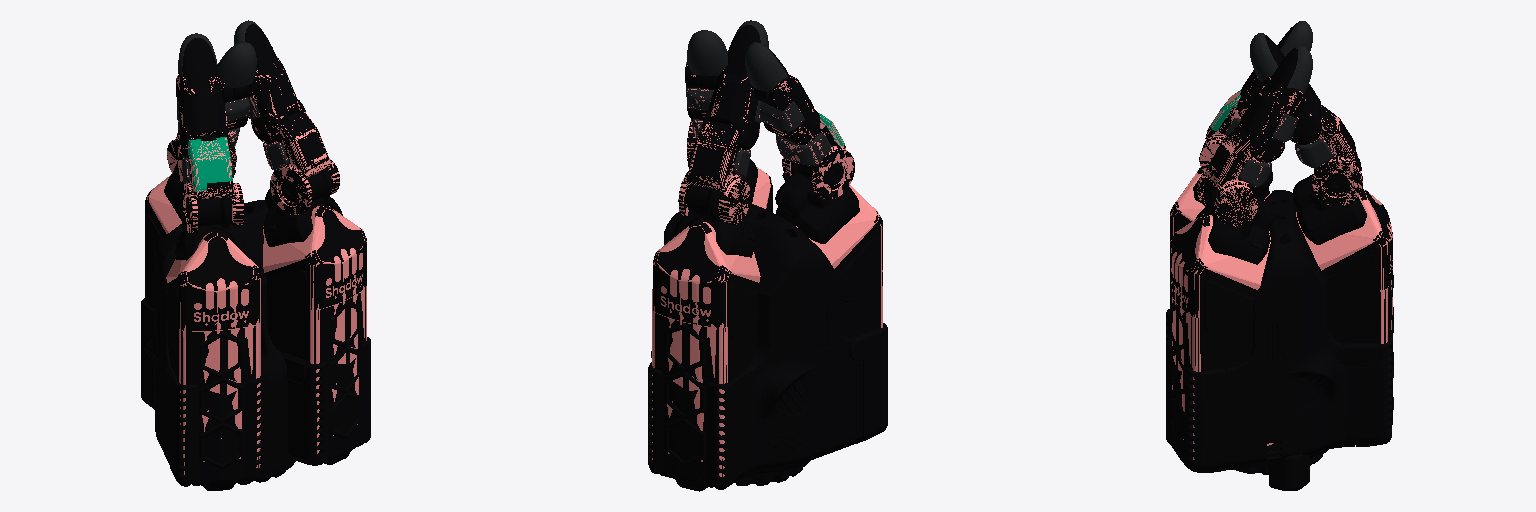
--- Render facts (derived) ---
The picture shows the robot from 3 angles, left to right: view 1: azimuth 30°, elevation 25°; view 2: azimuth 150°, elevation 25°; view 3: azimuth 270°, elevation 25°; orthographic projection.
Robot: converted_robot — 32 links, 31 joints (12 revolute, 19 fixed); root link world; default pose: all joints at 0.
Links seen in each view (by area): view 1: F2/finger_base, F1/finger_base, hand_base, F1/finger_proximal, F2/finger_proximal, F0/finger_base, F2/finger_middle, F1/finger_middle, F1/finger_knuckle, F2/finger_knuckle, F2/finger_distal, F0/finger_distal (+4 smaller); view 2: F0/finger_base, hand_base, F2/finger_base, F0/finger_proximal, F2/finger_knuckle, F2/finger_proximal, F0/finger_middle, F2/finger_middle, F0/finger_knuckle, F1/finger_distal, F2/finger_distal, F0/finger_distal (+2 smaller); view 3: hand_base, F1/finger_base, F0/finger_base, F1/finger_proximal, F0/finger_proximal, F1/finger_middle, F0/finger_knuckle, F1/finger_knuckle, F1/finger_distal, F2/finger_proximal, F2/finger_base, F0/finger_middle (+3 smaller).
Link boxes in pixels (<box>): F2/finger_base: <box>165,232,264,490</box>; F1/finger_base: <box>263,205,370,465</box>; hand_base: <box>144,200,295,484</box>; F1/finger_proximal: <box>263,112,339,214</box>; F2/finger_proximal: <box>182,135,243,233</box>; F0/finger_base: <box>141,175,181,409</box>; F2/finger_middle: <box>176,74,230,157</box>; F1/finger_middle: <box>248,56,305,143</box>; F1/finger_knuckle: <box>264,169,342,246</box>; F2/finger_knuckle: <box>174,197,246,260</box>; F2/finger_distal: <box>178,33,217,89</box>; F0/finger_distal: <box>217,42,256,101</box>; F0/finger_base: <box>648,222,760,491</box>; hand_base: <box>651,204,862,485</box>; F2/finger_base: <box>796,185,887,443</box>; F0/finger_proximal: <box>678,122,750,224</box>; F2/finger_knuckle: <box>775,161,859,243</box>; F2/finger_proximal: <box>772,113,854,199</box>; F0/finger_middle: <box>702,65,761,149</box>; F2/finger_middle: <box>752,75,820,144</box>; F0/finger_knuckle: <box>673,184,754,257</box>; F1/finger_distal: <box>687,30,727,89</box>; F2/finger_distal: <box>745,42,789,106</box>; F0/finger_distal: <box>726,20,768,76</box>; hand_base: <box>1223,190,1355,490</box>; F1/finger_base: <box>1166,214,1273,472</box>; F0/finger_base: <box>1296,189,1393,446</box>; F1/finger_proximal: <box>1197,126,1271,226</box>; F0/finger_proximal: <box>1295,105,1362,205</box>; F1/finger_middle: <box>1238,77,1305,162</box>; F0/finger_knuckle: <box>1293,155,1366,244</box>; F1/finger_knuckle: <box>1195,179,1273,264</box>; F1/finger_distal: <box>1266,45,1312,93</box>; F2/finger_proximal: <box>1199,89,1241,172</box>; F2/finger_base: <box>1166,167,1269,341</box>; F0/finger_middle: <box>1263,75,1321,144</box>.
Size in the robot's own frame: 0.1611 by 0.1656 by 0.3405 metres.
Meshes: 26 distinct files referenced, 70 mesh visuals loaded (26 OBJ).

The robot description file, URDF, robot "converted_robot":
<?xml version="1.0" ?>
<robot name="converted_robot">
   <!--generated with mjcf_urdf_simple_converter (https://github.com/Yasu31/mjcf_urdf_simple_converter)-->
   <material name="white_aluminium">
      <color rgba="0.6313 0.6313 0.62745 1"/>
   </material>
   <material name="graphite_black">
      <color rgba="0.1529 0.16078 0.16862 1"/>
   </material>
   <material name="jet_black">
      <color rgba="0.0549 0.0549 0.06274 1"/>
   </material>
   <material name="collision">
      <color rgba="1 0.6 0.6 1"/>
   </material>
   <link name="world">
      <inertial>
         <origin xyz="0.0 0.0 0.0" rpy="0.0 0.0 0.0"/>
         <mass value="0.0"/>
         <inertia ixx="0.0" iyy="0.0" izz="0.0" ixy="0" ixz="0" iyz="0"/>
      </inertial>
   </link>
   <link name="hand_base">
      <inertial>
         <origin xyz="0.0012012408425374063 0.006729996281792371 0.08401692122042397" rpy="-0.05683497076935362 0.06733359392505678 1.5758357357552364"/>
         <mass value="0.51"/>
         <inertia ixx="0.0017857945287114141" iyy="0.0014331679068060614" izz="0.0008006585504913038" ixy="0" ixz="0" iyz="0"/>
      </inertial>
      <visual name="r3_config1_base">
         <origin xyz="0.0012012408425374063 0.006729996281792371 0.08401692122042397" rpy="-0.05683497076935362 0.06733359392505656 1.5758357357552366"/>
         <geometry>
            <mesh filename="meshes/converted_r3_config1_base_808080ff.obj"/>
         </geometry>
         <material name="jet_black">
            <color rgba="0.0549 0.0549 0.06274 1"/>
         </material>
      </visual>
      <visual name="r3_config1_base_col">
         <origin xyz="0.0012012408425374063 0.006729996281792371 0.08401692122042397" rpy="-0.05683497076935362 0.06733359392505656 1.5758357357552366"/>
         <geometry>
            <mesh filename="meshes/converted_r3_config1_base_col_ff9999ff.obj"/>
         </geometry>
         <material name="collision">
            <color rgba="1 0.6 0.6 1"/>
         </material>
      </visual>
      <visual name="r3_config1_base_puck">
         <origin xyz="2.1132538598212176e-05 -1.5607816862469347e-05 0.005612088342766364" rpy="3.107884950007894 -1.5686393870957103 -0.5884114118014745"/>
         <geometry>
            <mesh filename="meshes/converted_r3_config1_base_puck_808080ff.obj"/>
         </geometry>
         <material name="jet_black">
            <color rgba="0.0549 0.0549 0.06274 1"/>
         </material>
      </visual>
      <visual name="r3_config1_base_puck_col">
         <origin xyz="2.1132538598212176e-05 -1.5607816862469347e-05 0.005612088342766364" rpy="3.107884950007894 -1.5686393870957103 -0.5884114118014745"/>
         <geometry>
            <mesh filename="meshes/converted_r3_config1_base_puck_col_ff9999ff.obj"/>
         </geometry>
         <material name="collision">
            <color rgba="1 0.6 0.6 1"/>
         </material>
      </visual>
   </link>
   <joint type="fixed" name="world2hand_base_fixed">
      <parent link="world"/>
      <child link="hand_base"/>
      <origin xyz="0.0 0.0 0.0" rpy="0.0 0.0 0.0"/>
   </joint>
   <link name="F0/">
      <inertial>
         <origin xyz="0.0 0.05 0.017" rpy="0.0 0.0 0.0"/>
         <mass value="0.0"/>
         <inertia ixx="0.0" iyy="0.0" izz="0.0" ixy="0" ixz="0" iyz="0"/>
      </inertial>
   </link>
   <joint type="fixed" name="world2F0/_fixed">
      <parent link="world"/>
      <child link="F0/"/>
      <origin xyz="0.0 0.05 0.017" rpy="0.0 0.0 0.0"/>
   </joint>
   <link name="F0/finger_base">
      <inertial>
         <origin xyz="8.327226545399306e-12 0.01054598288936383 0.07048018107010738" rpy="0.0 -0.10711439124122646 1.5707963267948968"/>
         <mass value="0.89937782"/>
         <inertia ixx="0.0015673892706571104" iyy="0.0014910361893646423" izz="0.00043993605940265574" ixy="0" ixz="0" iyz="0"/>
      </inertial>
      <visual name="r3_finger_base">
         <origin xyz="8.327226545399306e-12 0.01054598288936383 0.07048018107010738" rpy="0.0 -0.10711439124122646 1.5707963267948966"/>
         <geometry>
            <mesh filename="meshes/converted_r3_finger_base_808080ff.obj"/>
         </geometry>
         <material name="jet_black">
            <color rgba="0.0549 0.0549 0.06274 1"/>
         </material>
      </visual>
      <visual name="r3_finger_base_tb">
         <origin xyz="-0.00025000517546225093 0.029824496031573167 0.15326050625056" rpy="-0.11303539257440243 -0.21914547257460848 1.5720384557586078"/>
         <geometry>
            <mesh filename="meshes/converted_r3_finger_base_tb_808080ff.obj"/>
         </geometry>
         <material name="jet_black">
            <color rgba="0.0549 0.0549 0.06274 1"/>
         </material>
      </visual>
      <visual name="r3_finger_cover">
         <origin xyz="0.0007136569957928827 0.028223592638347953 0.04220325608402197" rpy="0.03536068327352959 0.08870175476163311 1.5218955282386957"/>
         <geometry>
            <mesh filename="meshes/converted_r3_finger_cover_808080ff.obj"/>
         </geometry>
         <material name="jet_black">
            <color rgba="0.0549 0.0549 0.06274 1"/>
         </material>
      </visual>
      <visual name="r3_finger_pulley_block">
         <origin xyz="-0.0009622186268961596 0.006361143943189516 0.1466967096132776" rpy="-1.5687868138431136 -1.1022271132639765 -1.576208495621712"/>
         <geometry>
            <mesh filename="meshes/converted_r3_finger_pulley_block_808080ff.obj"/>
         </geometry>
         <material name="jet_black">
            <color rgba="0.0549 0.0549 0.06274 1"/>
         </material>
      </visual>
      <visual name="r3_finger_lid_white">
         <origin xyz="-3.706867975964192e-06 0.03646801477221525 0.1465908800087447" rpy="1.5707963267948966 -0.02201707176498169 1.5707963267948966"/>
         <geometry>
            <mesh filename="meshes/converted_r3_finger_lid_white_808080ff.obj"/>
         </geometry>
         <material name="white_aluminium">
            <color rgba="0.6313 0.6313 0.62745 1"/>
         </material>
      </visual>
      <visual name="r3_finger_lid_logo">
         <origin xyz="-1.4756088946121951e-05 0.03486981911536337 0.1484948163600187" rpy="1.5793979239547067 -0.07957178813569987 1.5707963267948966"/>
         <geometry>
            <mesh filename="meshes/converted_r3_finger_lid_logo_808080ff.obj"/>
         </geometry>
         <material name="jet_black">
            <color rgba="0.0549 0.0549 0.06274 1"/>
         </material>
      </visual>
      <visual name="r3_finger_cover_small_left">
         <origin xyz="0.029562986508563247 0.011445826228016404 0.12950803634669852" rpy="2.195541630562622 0.0 0.0"/>
         <geometry>
            <mesh filename="meshes/converted_r3_finger_cover_small_left_808080ff.obj"/>
         </geometry>
         <material name="jet_black">
            <color rgba="0.0549 0.0549 0.06274 1"/>
         </material>
      </visual>
      <visual name="r3_finger_cover_small_right">
         <origin xyz="-0.029562986509708983 0.01144582621534511 0.12950803634822772" rpy="2.1955416305372593 0.0 0.0"/>
         <geometry>
            <mesh filename="meshes/converted_r3_finger_cover_small_right_808080ff.obj"/>
         </geometry>
         <material name="jet_black">
            <color rgba="0.0549 0.0549 0.06274 1"/>
         </material>
      </visual>
      <visual name="r3_finger_base_col">
         <origin xyz="-1.3046223241388559e-05 0.0004585780015310033 0.08905454252468384" rpy="0.001172742393657572 0.00012091916462431129 -0.0005129728017108533"/>
         <geometry>
            <mesh filename="meshes/converted_r3_finger_base_col_808080ff.obj"/>
         </geometry>
         <material name="collision">
            <color rgba="1 0.6 0.6 1"/>
         </material>
      </visual>
   </link>
   <joint type="fixed" name="F0/2F0/finger_base_fixed">
      <parent link="F0/"/>
      <child link="F0/finger_base"/>
      <origin xyz="0.0 0.0 0.0" rpy="0.0 0.0 0.0"/>
   </joint>
   <link name="F0/finger_knuckle">
      <inertial>
         <origin xyz="-0.00023377087580675408 -0.007837674710718483 -0.015295115474376404" rpy="1.0322489600345182 0.015439441878945415 -0.030933412173580144"/>
         <mass value="0.13077995"/>
         <inertia ixx="6.233881188373811e-05" iyy="5.631648265865956e-05" izz="3.5160911517250855e-05" ixy="0" ixz="0" iyz="0"/>
      </inertial>
      <visual name="r3_finger_knuckle">
         <origin xyz="-0.00023377087580675408 -0.007837674710718483 -0.015295115474376404" rpy="1.0322489600345182 0.015439441878945637 -0.030933412173580144"/>
         <geometry>
            <mesh filename="meshes/converted_r3_finger_knuckle_808080ff.obj"/>
         </geometry>
         <material name="jet_black">
            <color rgba="0.0549 0.0549 0.06274 1"/>
         </material>
      </visual>
      <visual name="r3_finger_knuckle_col">
         <origin xyz="-0.00023377087580675408 -0.007837674710718483 -0.015295115474376404" rpy="1.0322489600345182 0.015439441878945637 -0.030933412173580144"/>
         <geometry>
            <mesh filename="meshes/converted_r3_finger_knuckle_col_808080ff.obj"/>
         </geometry>
         <material name="collision">
            <color rgba="1 0.6 0.6 1"/>
         </material>
      </visual>
   </link>
   <link name="F0/J0_jointbody">
      <inertial>
         <origin xyz="0.0 0.0 0.0" rpy="0.0 0.0 0.0"/>
         <mass value="0.001"/>
         <inertia ixx="1e-09" iyy="1e-09" izz="1e-09" ixy="0" ixz="0" iyz="0"/>
      </inertial>
   </link>
   <joint type="revolute" name="F0/J0">
      <parent link="F0/finger_base"/>
      <child link="F0/J0_jointbody"/>
      <origin xyz="0.0 0.015 0.17902" rpy="-1.0472000000000001 0.0 0.0"/>
      <axis xyz="0.0 0.0 -1.0"/>
      <limit lower="-0.8727" upper="0.8727" effort="100" velocity="100"/>
   </joint>
   <joint type="fixed" name="F0/J0_offset">
      <parent link="F0/J0_jointbody"/>
      <child link="F0/finger_knuckle"/>
      <origin xyz="-0.0 -0.0 -0.0" rpy="0.0 0.0 0.0"/>
   </joint>
   <link name="F0/finger_proximal">
      <inertial>
         <origin xyz="-0.0009644587620116158 -0.016217657025227983 0.0026224635162594807" rpy="0.42741351885532486 -1.5281955927617377 1.1674598495934774"/>
         <mass value="0.09614332"/>
         <inertia ixx="4.4348780185862844e-05" iyy="3.9493152754213314e-05" izz="1.6583256458014625e-05" ixy="0" ixz="0" iyz="0"/>
      </inertial>
      <visual name="r3_finger_proximal">
         <origin xyz="-0.0009644587620116158 -0.016217657025227983 0.0026224635162594807" rpy="0.4274135188553242 -1.5281955927617377 1.1674598495934778"/>
         <geometry>
            <mesh filename="meshes/converted_r3_finger_proximal_808080ff.obj"/>
         </geometry>
         <material name="jet_black">
            <color rgba="0.0549 0.0549 0.06274 1"/>
         </material>
      </visual>
      <visual name="r3_finger_proximal_lid">
         <origin xyz="0.0009964758204556124 -0.029411778713204648 0.016797547976464114" rpy="2.497510926265769 -1.4287487346267171 -1.3575196482734142"/>
         <geometry>
            <mesh filename="meshes/converted_r3_finger_proximal_lid_808080ff.obj"/>
         </geometry>
         <material name="jet_black">
            <color rgba="0.0549 0.0549 0.06274 1"/>
         </material>
      </visual>
      <visual name="r3_finger_proximal_magtac">
         <origin xyz="-1.3808692983045182e-07 -0.02758220823071568 -0.002932796361921121" rpy="1.5707963267948966 0.1889942027358682 1.5707963267948966"/>
         <geometry>
            <mesh filename="meshes/converted_r3_finger_proximal_magtac_808080ff.obj"/>
         </geometry>
         <material name="graphite_black">
            <color rgba="0.1529 0.16078 0.16862 1"/>
         </material>
      </visual>
      <visual name="r3_finger_proximal_col">
         <origin xyz="-0.0005162379564240678 -0.020597143663197596 0.003623588669234484" rpy="-0.49111008932510347 -1.4921888527050045 2.10201627227121"/>
         <geometry>
            <mesh filename="meshes/converted_r3_finger_proximal_col_808080ff.obj"/>
         </geometry>
         <material name="collision">
            <color rgba="1 0.6 0.6 1"/>
         </material>
      </visual>
   </link>
   <link name="F0/J1_jointbody">
      <inertial>
         <origin xyz="0.0 0.0 0.0" rpy="0.0 0.0 0.0"/>
         <mass value="0.001"/>
         <inertia ixx="1e-09" iyy="1e-09" izz="1e-09" ixy="0" ixz="0" iyz="0"/>
      </inertial>
   </link>
   <joint type="revolute" name="F0/J1">
      <parent link="F0/finger_knuckle"/>
      <child link="F0/J1_jointbody"/>
      <origin xyz="0.0 -0.03 0.0" rpy="0.0 0.0 0.0"/>
      <axis xyz="1.0 0.0 0.0"/>
      <limit lower="-1.3963" upper="0.7854" effort="100" velocity="100"/>
   </joint>
   <joint type="fixed" name="F0/J1_offset">
      <parent link="F0/J1_jointbody"/>
      <child link="F0/finger_proximal"/>
      <origin xyz="-0.0 -0.0 -0.0" rpy="0.0 0.0 0.0"/>
   </joint>
   <link name="F0/finger_middle">
      <inertial>
         <origin xyz="-5.312439490077452e-05 -0.014887540831131058 0.0024159721835044926" rpy="-0.3106861008821471 -1.542885454696393 1.865330518167668"/>
         <mass value="0.05585897"/>
         <inertia ixx="1.8411470670307498e-05" iyy="1.586370741286415e-05" izz="7.914944890151545e-06" ixy="0" ixz="0" iyz="0"/>
      </inertial>
      <visual name="r3_finger_middle">
         <origin xyz="-5.312439490077452e-05 -0.014887540831131058 0.0024159721835044926" rpy="-0.31068610088214343 -1.542885454696393 1.865330518167664"/>
         <geometry>
            <mesh filename="meshes/converted_r3_finger_middle_808080ff.obj"/>
         </geometry>
         <material name="jet_black">
            <color rgba="0.0549 0.0549 0.06274 1"/>
         </material>
      </visual>
      <visual name="r3_finger_middle_magtac">
         <origin xyz="-8.268536875349562e-07 -0.017052828022417015 -0.006302157933194955" rpy="1.5744146047816145 -1.2499101541936672 1.5707963267948966"/>
         <geometry>
            <mesh filename="meshes/converted_r3_finger_middle_magtac_808080ff.obj"/>
         </geometry>
         <material name="graphite_black">
            <color rgba="0.1529 0.16078 0.16862 1"/>
         </material>
      </visual>
      <visual name="r3_finger_middle_col">
         <origin xyz="-3.869287817870368e-05 -0.015361278622972645 0.0005163638117973057" rpy="-0.40438613574675164 -1.560003033264187 1.9569843491253969"/>
         <geometry>
            <mesh filename="meshes/converted_r3_finger_middle_col_808080ff.obj"/>
         </geometry>
         <material name="collision">
            <color rgba="1 0.6 0.6 1"/>
         </material>
      </visual>
   </link>
   <link name="F0/J2_jointbody">
      <inertial>
         <origin xyz="0.0 0.0 0.0" rpy="0.0 0.0 0.0"/>
         <mass value="0.001"/>
         <inertia ixx="1e-09" iyy="1e-09" izz="1e-09" ixy="0" ixz="0" iyz="0"/>
      </inertial>
   </link>
   <joint type="revolute" name="F0/J2">
      <parent link="F0/finger_proximal"/>
      <child link="F0/J2_jointbody"/>
      <origin xyz="0.0 -0.05 0.0" rpy="0.0 0.0 0.0"/>
      <axis xyz="1.0 0.0 0.0"/>
      <limit lower="0.0" upper="1.3963" effort="100" velocity="100"/>
   </joint>
   <joint type="fixed" name="F0/J2_offset">
      <parent link="F0/J2_jointbody"/>
      <child link="F0/finger_middle"/>
      <origin xyz="-0.0 -0.0 -0.0" rpy="0.0 0.0 0.0"/>
   </joint>
   <link name="F0/finger_distal">
      <inertial>
         <origin xyz="-0.0012210484748830597 -0.003505067494228547 0.007269018357083593" rpy="0.39882863373999167 0.031957197161715634 0.13057366506604948"/>
         <mass value="0.02766365"/>
         <inertia ixx="4.205112783682214e-06" iyy="4.075291346818556e-06" izz="1.2620029574927629e-06" ixy="0" ixz="0" iyz="0"/>
      </inertial>
      <visual name="r3_finger_distal">
         <origin xyz="-0.0012210484748830597 -0.003505067494228547 0.007269018357083593" rpy="0.39882863373999167 0.031957197161715634 0.13057366506604948"/>
         <geometry>
            <mesh filename="meshes/converted_r3_finger_distal_808080ff.obj"/>
         </geometry>
         <material name="jet_black">
            <color rgba="0.0549 0.0549 0.06274 1"/>
         </material>
      </visual>
      <visual name="r3_finger_distal_sensor">
         <origin xyz="4.159368535496256e-07 -0.0006412162305678167 0.02304441091689664" rpy="0.0 -0.3214055919794552 1.5707963267948966"/>
         <geometry>
            <mesh filename="meshes/converted_r3_finger_distal_sensor_808080ff.obj"/>
         </geometry>
         <material name="graphite_black">
            <color rgba="0.1529 0.16078 0.16862 1"/>
         </material>
      </visual>
      <visual name="r3_finger_distal_col">
         <origin xyz="-0.0012210484748830597 -0.003505067494228547 0.007269018357083593" rpy="0.39882863373999167 0.031957197161715634 0.13057366506604948"/>
         <geometry>
            <mesh filename="meshes/converted_r3_finger_distal_col_808080ff.obj"/>
         </geometry>
         <material name="collision">
            <color rgba="1 0.6 0.6 1"/>
         </material>
      </visual>
      <visual name="r3_finger_distal_tip_col">
         <origin xyz="4.159368535496256e-07 -0.0006412162305678167 0.02304441091689664" rpy="0.0 -0.3214055919794552 1.5707963267948966"/>
         <geometry>
            <mesh filename="meshes/converted_r3_finger_distal_tip_col_808080ff.obj"/>
         </geometry>
         <material name="collision">
            <color rgba="1 0.6 0.6 1"/>
         </material>
      </visual>
   </link>
   <link name="F0/J3_jointbody">
      <inertial>
         <origin xyz="0.0 0.0 0.0" rpy="0.0 0.0 0.0"/>
         <mass value="0.001"/>
         <inertia ixx="1e-09" iyy="1e-09" izz="1e-09" ixy="0" ixz="0" iyz="0"/>
      </inertial>
   </link>
   <joint type="revolute" name="F0/J3">
      <parent link="F0/finger_middle"/>
      <child link="F0/J3_jointbody"/>
      <origin xyz="0.0 -0.035 0.0" rpy="-1.5707963267948963 0.0 -3.141592653589793"/>
      <axis xyz="-1.0 0.0 0.0"/>
      <limit lower="-0.5236" upper="1.4835" effort="100" velocity="100"/>
   </joint>
   <joint type="fixed" name="F0/J3_offset">
      <parent link="F0/J3_jointbody"/>
      <child link="F0/finger_distal"/>
      <origin xyz="-0.0 -0.0 -0.0" rpy="0.0 0.0 0.0"/>
   </joint>
   <link name="F1/">
      <inertial>
         <origin xyz="0.039 -0.029 0.017" rpy="0.0 0.0 -2.8159"/>
         <mass value="0.0"/>
         <inertia ixx="0.0" iyy="0.0" izz="0.0" ixy="0" ixz="0" iyz="0"/>
      </inertial>
   </link>
   <joint type="fixed" name="world2F1/_fixed">
      <parent link="world"/>
      <child link="F1/"/>
      <origin xyz="0.039 -0.029 0.017" rpy="0.0 0.0 -2.8159"/>
   </joint>
   <link name="F1/finger_base">
      <inertial>
         <origin xyz="8.327226545399306e-12 0.01054598288936383 0.07048018107010738" rpy="0.0 -0.10711439124122646 1.5707963267948968"/>
         <mass value="0.89937782"/>
         <inertia ixx="0.0015673892706571104" iyy="0.0014910361893646423" izz="0.00043993605940265574" ixy="0" ixz="0" iyz="0"/>
      </inertial>
      <visual name="r3_finger_base">
         <origin xyz="8.327226545399306e-12 0.01054598288936383 0.07048018107010738" rpy="0.0 -0.10711439124122646 1.5707963267948966"/>
         <geometry>
            <mesh filename="meshes/converted_r3_finger_base_808080ff.obj"/>
         </geometry>
         <material name="jet_black">
            <color rgba="0.0549 0.0549 0.06274 1"/>
         </material>
      </visual>
      <visual name="r3_finger_base_tb">
         <origin xyz="-0.00025000517546225093 0.029824496031573167 0.15326050625056" rpy="-0.11303539257440243 -0.21914547257460848 1.5720384557586078"/>
         <geometry>
            <mesh filename="meshes/converted_r3_finger_base_tb_808080ff.obj"/>
         </geometry>
         <material name="jet_black">
            <color rgba="0.0549 0.0549 0.06274 1"/>
         </material>
      </visual>
      <visual name="r3_finger_cover">
         <origin xyz="0.0007136569957928827 0.028223592638347953 0.04220325608402197" rpy="0.03536068327352959 0.08870175476163311 1.5218955282386957"/>
         <geometry>
            <mesh filename="meshes/converted_r3_finger_cover_808080ff.obj"/>
         </geometry>
         <material name="jet_black">
            <color rgba="0.0549 0.0549 0.06274 1"/>
         </material>
      </visual>
      <visual name="r3_finger_pulley_block">
         <origin xyz="-0.0009622186268961596 0.006361143943189516 0.1466967096132776" rpy="-1.5687868138431136 -1.1022271132639765 -1.576208495621712"/>
         <geometry>
            <mesh filename="meshes/converted_r3_finger_pulley_block_808080ff.obj"/>
         </geometry>
         <material name="jet_black">
            <color rgba="0.0549 0.0549 0.06274 1"/>
         </material>
      </visual>
      <visual name="r3_finger_lid_white">
         <origin xyz="-3.706867975964192e-06 0.03646801477221525 0.1465908800087447" rpy="1.5707963267948966 -0.02201707176498169 1.5707963267948966"/>
         <geometry>
            <mesh filename="meshes/converted_r3_finger_lid_white_808080ff.obj"/>
         </geometry>
         <material name="white_aluminium">
            <color rgba="0.6313 0.6313 0.62745 1"/>
         </material>
      </visual>
      <visual name="r3_finger_lid_logo">
         <origin xyz="-1.4756088946121951e-05 0.03486981911536337 0.1484948163600187" rpy="1.5793979239547067 -0.07957178813569987 1.5707963267948966"/>
         <geometry>
            <mesh filename="meshes/converted_r3_finger_lid_logo_808080ff.obj"/>
         </geometry>
         <material name="jet_black">
            <color rgba="0.0549 0.0549 0.06274 1"/>
         </material>
      </visual>
      <visual name="r3_finger_cover_small_left">
         <origin xyz="0.029562986508563247 0.011445826228016404 0.12950803634669852" rpy="2.195541630562622 0.0 0.0"/>
         <geometry>
            <mesh filename="meshes/converted_r3_finger_cover_small_left_808080ff.obj"/>
         </geometry>
         <material name="jet_black">
            <color rgba="0.0549 0.0549 0.06274 1"/>
         </material>
      </visual>
      <visual name="r3_finger_cover_small_right">
         <origin xyz="-0.029562986509708983 0.01144582621534511 0.12950803634822772" rpy="2.1955416305372593 0.0 0.0"/>
         <geometry>
            <mesh filename="meshes/converted_r3_finger_cover_small_right_808080ff.obj"/>
         </geometry>
         <material name="jet_black">
            <color rgba="0.0549 0.0549 0.06274 1"/>
         </material>
      </visual>
      <visual name="r3_finger_base_col">
         <origin xyz="-1.3046223241388559e-05 0.0004585780015310033 0.08905454252468384" rpy="0.001172742393657572 0.00012091916462431129 -0.0005129728017108533"/>
         <geometry>
            <mesh filename="meshes/converted_r3_finger_base_col_808080ff.obj"/>
         </geometry>
         <material name="collision">
            <color rgba="1 0.6 0.6 1"/>
         </material>
      </visual>
   </link>
   <joint type="fixed" name="F1/2F1/finger_base_fixed">
      <parent link="F1/"/>
      <child link="F1/finger_base"/>
      <origin xyz="0.0 0.0 0.0" rpy="0.0 0.0 0.0"/>
   </joint>
   <link name="F1/finger_knuckle">
      <inertial>
         <origin xyz="-0.00023377087580675408 -0.007837674710718483 -0.015295115474376404" rpy="1.0322489600345182 0.015439441878945415 -0.030933412173580144"/>
         <mass value="0.13077995"/>
         <inertia ixx="6.233881188373811e-05" iyy="5.631648265865956e-05" izz="3.5160911517250855e-05" ixy="0" ixz="0" iyz="0"/>
      </inertial>
      <visual name="r3_finger_knuckle">
         <origin xyz="-0.00023377087580675408 -0.007837674710718483 -0.015295115474376404" rpy="1.0322489600345182 0.015439441878945637 -0.030933412173580144"/>
         <geometry>
            <mesh filename="meshes/converted_r3_finger_knuckle_808080ff.obj"/>
         </geometry>
         <material name="jet_black">
            <color rgba="0.0549 0.0549 0.06274 1"/>
         </material>
      </visual>
      <visual name="r3_finger_knuckle_col">
         <origin xyz="-0.00023377087580675408 -0.007837674710718483 -0.015295115474376404" rpy="1.0322489600345182 0.015439441878945637 -0.030933412173580144"/>
         <geometry>
            <mesh filename="meshes/converted_r3_finger_knuckle_col_808080ff.obj"/>
         </geometry>
         <material name="collision">
            <color rgba="1 0.6 0.6 1"/>
         </material>
      </visual>
   </link>
   <link name="F1/J0_jointbody">
      <inertial>
         <origin xyz="0.0 0.0 0.0" rpy="0.0 0.0 0.0"/>
         <mass value="0.001"/>
         <inertia ixx="1e-09" iyy="1e-09" izz="1e-09" ixy="0" ixz="0" iyz="0"/>
      </inertial>
   </link>
   <joint type="revolute" name="F1/J0">
      <parent link="F1/finger_base"/>
      <child link="F1/J0_jointbody"/>
      <origin xyz="0.0 0.015 0.17902" rpy="-1.0472000000000001 0.0 0.0"/>
      <axis xyz="0.0 0.0 -1.0"/>
      <limit lower="-0.8727" upper="0.8727" effort="100" velocity="100"/>
   </joint>
   <joint type="fixed" name="F1/J0_offset">
      <parent link="F1/J0_jointbody"/>
      <child link="F1/finger_knuckle"/>
      <origin xyz="-0.0 -0.0 -0.0" rpy="0.0 0.0 0.0"/>
   </joint>
   <link name="F1/finger_proximal">
      <inertial>
         <origin xyz="-0.0009644587620116158 -0.016217657025227983 0.0026224635162594807" rpy="0.42741351885532486 -1.5281955927617377 1.1674598495934774"/>
         <mass value="0.09614332"/>
         <inertia ixx="4.4348780185862844e-05" iyy="3.9493152754213314e-05" izz="1.6583256458014625e-05" ixy="0" ixz="0" iyz="0"/>
      </inertial>
      <visual name="r3_finger_proximal">
         <origin xyz="-0.0009644587620116158 -0.016217657025227983 0.0026224635162594807" rpy="0.4274135188553242 -1.5281955927617377 1.1674598495934778"/>
         <geometry>
            <mesh filename="meshes/converted_r3_finger_proximal_808080ff.obj"/>
         </geometry>
         <material name="jet_black">
            <color rgba="0.0549 0.0549 0.06274 1"/>
         </material>
      </visual>
      <visual name="r3_finger_proximal_lid">
         <origin xyz="0.0009964758204556124 -0.029411778713204648 0.016797547976464114" rpy="2.497510926265769 -1.4287487346267171 -1.3575196482734142"/>
         <geometry>
            <mesh filename="meshes/converted_r3_finger_proximal_lid_808080ff.obj"/>
         </geometry>
         <material name="jet_black">
            <color rgba="0.0549 0.0549 0.06274 1"/>
         </material>
      </visual>
      <visual name="r3_finger_proximal_magtac">
         <origin xyz="-1.3808692983045182e-07 -0.02758220823071568 -0.002932796361921121" rpy="1.5707963267948966 0.1889942027358682 1.5707963267948966"/>
         <geometry>
            <mesh filename="meshes/converted_r3_finger_proximal_magtac_808080ff.obj"/>
         </geometry>
         <material name="graphite_black">
            <color rgba="0.1529 0.16078 0.16862 1"/>
         </material>
      </visual>
      <visual name="r3_finger_proximal_col">
         <origin xyz="-0.0005162379564240678 -0.020597143663197596 0.003623588669234484" rpy="-0.49111008932510347 -1.4921888527050045 2.10201627227121"/>
         <geometry>
            <mesh filename="meshes/converted_r3_finger_proximal_col_808080ff.obj"/>
         </geometry>
         <material name="collision">
            <color rgba="1 0.6 0.6 1"/>
         </material>
      </visual>
   </link>
   <link name="F1/J1_jointbody">
      <inertial>
         <origin xyz="0.0 0.0 0.0" rpy="0.0 0.0 0.0"/>
         <mass value="0.001"/>
         <inertia ixx="1e-09" iyy="1e-09" izz="1e-09" ixy="0" ixz="0" iyz="0"/>
      </inertial>
   </link>
   <joint type="revolute" name="F1/J1">
      <parent link="F1/finger_knuckle"/>
      <child link="F1/J1_jointbody"/>
      <origin xyz="0.0 -0.03 0.0" rpy="0.0 0.0 0.0"/>
      <axis xyz="1.0 0.0 0.0"/>
      <limit lower="-1.3963" upper="0.7854" effort="100" velocity="100"/>
   </joint>
   <joint type="fixed" name="F1/J1_offset">
      <parent link="F1/J1_jointbody"/>
      <child link="F1/finger_proximal"/>
      <origin xyz="-0.0 -0.0 -0.0" rpy="0.0 0.0 0.0"/>
   </joint>
   <link name="F1/finger_middle">
      <inertial>
         <origin xyz="-5.312439490077452e-05 -0.014887540831131058 0.0024159721835044926" rpy="-0.3106861008821471 -1.542885454696393 1.865330518167668"/>
         <mass value="0.05585897"/>
         <inertia ixx="1.8411470670307498e-05" iyy="1.586370741286415e-05" izz="7.914944890151545e-06" ixy="0" ixz="0" iyz="0"/>
      </inertial>
      <visual name="r3_finger_middle">
         <origin xyz="-5.312439490077452e-05 -0.014887540831131058 0.0024159721835044926" rpy="-0.31068610088214343 -1.542885454696393 1.865330518167664"/>
         <geometry>
            <mesh filename="meshes/converted_r3_finger_middle_808080ff.obj"/>
         </geometry>
         <material name="jet_black">
            <color rgba="0.0549 0.0549 0.06274 1"/>
         </material>
      </visual>
      <visual name="r3_finger_middle_magtac">
         <origin xyz="-8.268536875349562e-07 -0.017052828022417015 -0.006302157933194955" rpy="1.5744146047816145 -1.2499101541936672 1.5707963267948966"/>
         <geometry>
            <mesh filename="meshes/converted_r3_finger_middle_magtac_808080ff.obj"/>
         </geometry>
         <material name="graphite_black">
            <color rgba="0.1529 0.16078 0.16862 1"/>
         </material>
      </visual>
      <visual name="r3_finger_middle_col">
         <origin xyz="-3.869287817870368e-05 -0.015361278622972645 0.0005163638117973057" rpy="-0.40438613574675164 -1.560003033264187 1.9569843491253969"/>
         <geometry>
            <mesh filename="meshes/converted_r3_finger_middle_col_808080ff.obj"/>
         </geometry>
         <material name="collision">
            <color rgba="1 0.6 0.6 1"/>
         </material>
      </visual>
   </link>
   <link name="F1/J2_jointbody">
      <inertial>
         <origin xyz="0.0 0.0 0.0" rpy="0.0 0.0 0.0"/>
         <mass value="0.001"/>
         <inertia ixx="1e-09" iyy="1e-09" izz="1e-09" ixy="0" ixz="0" iyz="0"/>
      </inertial>
   </link>
   <joint type="revolute" name="F1/J2">
      <parent link="F1/finger_proximal"/>
      <child link="F1/J2_jointbody"/>
      <origin xyz="0.0 -0.05 0.0" rpy="0.0 0.0 0.0"/>
      <axis xyz="1.0 0.0 0.0"/>
      <limit lower="0.0" upper="1.3963" effort="100" velocity="100"/>
   </joint>
   <joint type="fixed" name="F1/J2_offset">
      <parent link="F1/J2_jointbody"/>
      <child link="F1/finger_middle"/>
      <origin xyz="-0.0 -0.0 -0.0" rpy="0.0 0.0 0.0"/>
   </joint>
   <link name="F1/finger_distal">
      <inertial>
         <origin xyz="-0.0012210484748830597 -0.003505067494228547 0.007269018357083593" rpy="0.39882863373999167 0.031957197161715634 0.13057366506604948"/>
         <mass value="0.02766365"/>
         <inertia ixx="4.205112783682214e-06" iyy="4.075291346818556e-06" izz="1.2620029574927629e-06" ixy="0" ixz="0" iyz="0"/>
      </inertial>
      <visual name="r3_finger_distal">
         <origin xyz="-0.0012210484748830597 -0.003505067494228547 0.007269018357083593" rpy="0.39882863373999167 0.031957197161715634 0.13057366506604948"/>
         <geometry>
            <mesh filename="meshes/converted_r3_finger_distal_808080ff.obj"/>
         </geometry>
         <material name="jet_black">
            <color rgba="0.0549 0.0549 0.06274 1"/>
         </material>
      </visual>
      <visual name="r3_finger_distal_sensor">
         <origin xyz="4.159368535496256e-07 -0.0006412162305678167 0.02304441091689664" rpy="0.0 -0.3214055919794552 1.5707963267948966"/>
         <geometry>
            <mesh filename="meshes/converted_r3_finger_distal_sensor_808080ff.obj"/>
         </geometry>
         <material name="graphite_black">
            <color rgba="0.1529 0.16078 0.16862 1"/>
         </material>
      </visual>
      <visual name="r3_finger_distal_col">
         <origin xyz="-0.0012210484748830597 -0.003505067494228547 0.007269018357083593" rpy="0.39882863373999167 0.031957197161715634 0.13057366506604948"/>
         <geometry>
            <mesh filename="meshes/converted_r3_finger_distal_col_808080ff.obj"/>
         </geometry>
         <material name="collision">
            <color rgba="1 0.6 0.6 1"/>
         </material>
      </visual>
      <visual name="r3_finger_distal_tip_col">
         <origin xyz="4.159368535496256e-07 -0.0006412162305678167 0.02304441091689664" rpy="0.0 -0.3214055919794552 1.5707963267948966"/>
         <geometry>
            <mesh filename="meshes/converted_r3_finger_distal_tip_col_808080ff.obj"/>
         </geometry>
         <material name="collision">
            <color rgba="1 0.6 0.6 1"/>
         </material>
      </visual>
   </link>
   <link name="F1/J3_jointbody">
      <inertial>
         <origin xyz="0.0 0.0 0.0" rpy="0.0 0.0 0.0"/>
         <mass value="0.001"/>
         <inertia ixx="1e-09" iyy="1e-09" izz="1e-09" ixy="0" ixz="0" iyz="0"/>
      </inertial>
   </link>
   <joint type="revolute" name="F1/J3">
      <parent link="F1/finger_middle"/>
      <child link="F1/J3_jointbody"/>
      <origin xyz="0.0 -0.035 0.0" rpy="-1.5707963267948963 0.0 -3.141592653589793"/>
      <axis xyz="-1.0 0.0 0.0"/>
      <limit lower="-0.5236" upper="1.4835" effort="100" velocity="100"/>
   </joint>
   <joint type="fixed" name="F1/J3_offset">
      <parent link="F1/J3_jointbody"/>
      <child link="F1/finger_distal"/>
      <origin xyz="-0.0 -0.0 -0.0" rpy="0.0 0.0 0.0"/>
   </joint>
   <link name="F2/">
      <inertial>
         <origin xyz="-0.039 -0.029 0.017" rpy="0.0 0.0 2.8159"/>
         <mass value="0.0"/>
         <inertia ixx="0.0" iyy="0.0" izz="0.0" ixy="0" ixz="0" iyz="0"/>
      </inertial>
   </link>
   <joint type="fixed" name="world2F2/_fixed">
      <parent link="world"/>
      <child link="F2/"/>
      <origin xyz="-0.039 -0.029 0.017" rpy="0.0 0.0 2.8159"/>
   </joint>
   <link name="F2/finger_base">
      <inertial>
         <origin xyz="8.327226545399306e-12 0.01054598288936383 0.07048018107010738" rpy="0.0 -0.10711439124122646 1.5707963267948968"/>
         <mass value="0.89937782"/>
         <inertia ixx="0.0015673892706571104" iyy="0.0014910361893646423" izz="0.00043993605940265574" ixy="0" ixz="0" iyz="0"/>
      </inertial>
      <visual name="r3_finger_base">
         <origin xyz="8.327226545399306e-12 0.01054598288936383 0.07048018107010738" rpy="0.0 -0.10711439124122646 1.5707963267948966"/>
         <geometry>
            <mesh filename="meshes/converted_r3_finger_base_808080ff.obj"/>
         </geometry>
         <material name="jet_black">
            <color rgba="0.0549 0.0549 0.06274 1"/>
         </material>
      </visual>
      <visual name="r3_finger_base_tb">
         <origin xyz="-0.00025000517546225093 0.029824496031573167 0.15326050625056" rpy="-0.11303539257440243 -0.21914547257460848 1.5720384557586078"/>
         <geometry>
            <mesh filename="meshes/converted_r3_finger_base_tb_808080ff.obj"/>
         </geometry>
         <material name="jet_black">
            <color rgba="0.0549 0.0549 0.06274 1"/>
         </material>
      </visual>
      <visual name="r3_finger_cover">
         <origin xyz="0.0007136569957928827 0.028223592638347953 0.04220325608402197" rpy="0.03536068327352959 0.08870175476163311 1.5218955282386957"/>
         <geometry>
            <mesh filename="meshes/converted_r3_finger_cover_808080ff.obj"/>
         </geometry>
         <material name="jet_black">
            <color rgba="0.0549 0.0549 0.06274 1"/>
         </material>
      </visual>
      <visual name="r3_finger_pulley_block">
         <origin xyz="-0.0009622186268961596 0.006361143943189516 0.1466967096132776" rpy="-1.5687868138431136 -1.1022271132639765 -1.576208495621712"/>
         <geometry>
            <mesh filename="meshes/converted_r3_finger_pulley_block_808080ff.obj"/>
         </geometry>
         <material name="jet_black">
            <color rgba="0.0549 0.0549 0.06274 1"/>
         </material>
      </visual>
      <visual name="r3_finger_lid_white">
         <origin xyz="-3.706867975964192e-06 0.03646801477221525 0.1465908800087447" rpy="1.5707963267948966 -0.02201707176498169 1.5707963267948966"/>
         <geometry>
            <mesh filename="meshes/converted_r3_finger_lid_white_808080ff.obj"/>
         </geometry>
         <material name="white_aluminium">
            <color rgba="0.6313 0.6313 0.62745 1"/>
         </material>
      </visual>
      <visual name="r3_finger_lid_logo">
         <origin xyz="-1.4756088946121951e-05 0.03486981911536337 0.1484948163600187" rpy="1.5793979239547067 -0.07957178813569987 1.5707963267948966"/>
         <geometry>
            <mesh filename="meshes/converted_r3_finger_lid_logo_808080ff.obj"/>
         </geometry>
         <material name="jet_black">
            <color rgba="0.0549 0.0549 0.06274 1"/>
         </material>
      </visual>
      <visual name="r3_finger_cover_small_left">
         <origin xyz="0.029562986508563247 0.011445826228016404 0.12950803634669852" rpy="2.195541630562622 0.0 0.0"/>
         <geometry>
            <mesh filename="meshes/converted_r3_finger_cover_small_left_808080ff.obj"/>
         </geometry>
         <material name="jet_black">
            <color rgba="0.0549 0.0549 0.06274 1"/>
         </material>
      </visual>
      <visual name="r3_finger_cover_small_right">
         <origin xyz="-0.029562986509708983 0.01144582621534511 0.12950803634822772" rpy="2.1955416305372593 0.0 0.0"/>
         <geometry>
            <mesh filename="meshes/converted_r3_finger_cover_small_right_808080ff.obj"/>
         </geometry>
         <material name="jet_black">
            <color rgba="0.0549 0.0549 0.06274 1"/>
         </material>
      </visual>
      <visual name="r3_finger_base_col">
         <origin xyz="-1.3046223241388559e-05 0.0004585780015310033 0.08905454252468384" rpy="0.001172742393657572 0.00012091916462431129 -0.0005129728017108533"/>
         <geometry>
            <mesh filename="meshes/converted_r3_finger_base_col_808080ff.obj"/>
         </geometry>
         <material name="collision">
            <color rgba="1 0.6 0.6 1"/>
         </material>
      </visual>
   </link>
   <joint type="fixed" name="F2/2F2/finger_base_fixed">
      <parent link="F2/"/>
      <child link="F2/finger_base"/>
      <origin xyz="0.0 0.0 0.0" rpy="0.0 0.0 0.0"/>
   </joint>
   <link name="F2/finger_knuckle">
      <inertial>
         <origin xyz="-0.00023377087580675408 -0.007837674710718483 -0.015295115474376404" rpy="1.0322489600345182 0.015439441878945415 -0.030933412173580144"/>
         <mass value="0.13077995"/>
         <inertia ixx="6.233881188373811e-05" iyy="5.631648265865956e-05" izz="3.5160911517250855e-05" ixy="0" ixz="0" iyz="0"/>
      </inertial>
      <visual name="r3_finger_knuckle">
         <origin xyz="-0.00023377087580675408 -0.007837674710718483 -0.015295115474376404" rpy="1.0322489600345182 0.015439441878945637 -0.030933412173580144"/>
         <geometry>
            <mesh filename="meshes/converted_r3_finger_knuckle_808080ff.obj"/>
         </geometry>
         <material name="jet_black">
            <color rgba="0.0549 0.0549 0.06274 1"/>
         </material>
      </visual>
      <visual name="r3_finger_knuckle_col">
         <origin xyz="-0.00023377087580675408 -0.007837674710718483 -0.015295115474376404" rpy="1.0322489600345182 0.015439441878945637 -0.030933412173580144"/>
         <geometry>
            <mesh filename="meshes/converted_r3_finger_knuckle_col_808080ff.obj"/>
         </geometry>
         <material name="collision">
            <color rgba="1 0.6 0.6 1"/>
         </material>
      </visual>
   </link>
   <link name="F2/J0_jointbody">
      <inertial>
         <origin xyz="0.0 0.0 0.0" rpy="0.0 0.0 0.0"/>
         <mass value="0.001"/>
         <inertia ixx="1e-09" iyy="1e-09" izz="1e-09" ixy="0" ixz="0" iyz="0"/>
      </inertial>
   </link>
   <joint type="revolute" name="F2/J0">
      <parent link="F2/finger_base"/>
      <child link="F2/J0_jointbody"/>
      <origin xyz="0.0 0.015 0.17902" rpy="-1.0472000000000001 0.0 0.0"/>
      <axis xyz="0.0 0.0 -1.0"/>
      <limit lower="-0.8727" upper="0.8727" effort="100" velocity="100"/>
   </joint>
   <joint type="fixed" name="F2/J0_offset">
      <parent link="F2/J0_jointbody"/>
      <child link="F2/finger_knuckle"/>
      <origin xyz="-0.0 -0.0 -0.0" rpy="0.0 0.0 0.0"/>
   </joint>
   <link name="F2/finger_proximal">
      <inertial>
         <origin xyz="-0.0009644587620116158 -0.016217657025227983 0.0026224635162594807" rpy="0.42741351885532486 -1.5281955927617377 1.1674598495934774"/>
         <mass value="0.09614332"/>
         <inertia ixx="4.4348780185862844e-05" iyy="3.9493152754213314e-05" izz="1.6583256458014625e-05" ixy="0" ixz="0" iyz="0"/>
      </inertial>
      <visual name="r3_finger_proximal">
         <origin xyz="-0.0009644587620116158 -0.016217657025227983 0.0026224635162594807" rpy="0.4274135188553242 -1.5281955927617377 1.1674598495934778"/>
         <geometry>
            <mesh filename="meshes/converted_r3_finger_proximal_808080ff.obj"/>
         </geometry>
         <material name="jet_black">
            <color rgba="0.0549 0.0549 0.06274 1"/>
         </material>
      </visual>
      <visual name="r3_finger_proximal_lid">
         <origin xyz="0.0009964758204556124 -0.029411778713204648 0.016797547976464114" rpy="2.497510926265769 -1.4287487346267171 -1.3575196482734142"/>
         <geometry>
            <mesh filename="meshes/converted_r3_finger_proximal_lid_808080ff.obj"/>
         </geometry>
      </visual>
      <visual name="r3_finger_proximal_magtac">
         <origin xyz="-1.3808692983045182e-07 -0.02758220823071568 -0.002932796361921121" rpy="1.5707963267948966 0.1889942027358682 1.5707963267948966"/>
         <geometry>
            <mesh filename="meshes/converted_r3_finger_proximal_magtac_808080ff.obj"/>
         </geometry>
         <material name="graphite_black">
            <color rgba="0.1529 0.16078 0.16862 1"/>
         </material>
      </visual>
      <visual name="r3_finger_proximal_col">
         <origin xyz="-0.0005162379564240678 -0.020597143663197596 0.003623588669234484" rpy="-0.49111008932510347 -1.4921888527050045 2.10201627227121"/>
         <geometry>
            <mesh filename="meshes/converted_r3_finger_proximal_col_808080ff.obj"/>
         </geometry>
         <material name="collision">
            <color rgba="1 0.6 0.6 1"/>
         </material>
      </visual>
   </link>
   <link name="F2/J1_jointbody">
      <inertial>
         <origin xyz="0.0 0.0 0.0" rpy="0.0 0.0 0.0"/>
         <mass value="0.001"/>
         <inertia ixx="1e-09" iyy="1e-09" izz="1e-09" ixy="0" ixz="0" iyz="0"/>
      </inertial>
   </link>
   <joint type="revolute" name="F2/J1">
      <parent link="F2/finger_knuckle"/>
      <child link="F2/J1_jointbody"/>
      <origin xyz="0.0 -0.03 0.0" rpy="0.0 0.0 0.0"/>
      <axis xyz="1.0 0.0 0.0"/>
      <limit lower="-1.3963" upper="0.7854" effort="100" velocity="100"/>
   </joint>
   <joint type="fixed" name="F2/J1_offset">
      <parent link="F2/J1_jointbody"/>
      <child link="F2/finger_proximal"/>
      <origin xyz="-0.0 -0.0 -0.0" rpy="0.0 0.0 0.0"/>
   </joint>
   <link name="F2/finger_middle">
      <inertial>
         <origin xyz="-5.312439490077452e-05 -0.014887540831131058 0.0024159721835044926" rpy="-0.3106861008821471 -1.542885454696393 1.865330518167668"/>
         <mass value="0.05585897"/>
         <inertia ixx="1.8411470670307498e-05" iyy="1.586370741286415e-05" izz="7.914944890151545e-06" ixy="0" ixz="0" iyz="0"/>
      </inertial>
      <visual name="r3_finger_middle">
         <origin xyz="-5.312439490077452e-05 -0.014887540831131058 0.0024159721835044926" rpy="-0.31068610088214343 -1.542885454696393 1.865330518167664"/>
         <geometry>
            <mesh filename="meshes/converted_r3_finger_middle_808080ff.obj"/>
         </geometry>
         <material name="jet_black">
            <color rgba="0.0549 0.0549 0.06274 1"/>
         </material>
      </visual>
      <visual name="r3_finger_middle_magtac">
         <origin xyz="-8.268536875349562e-07 -0.017052828022417015 -0.006302157933194955" rpy="1.5744146047816145 -1.2499101541936672 1.5707963267948966"/>
         <geometry>
            <mesh filename="meshes/converted_r3_finger_middle_magtac_808080ff.obj"/>
         </geometry>
         <material name="graphite_black">
            <color rgba="0.1529 0.16078 0.16862 1"/>
         </material>
      </visual>
      <visual name="r3_finger_middle_col">
         <origin xyz="-3.869287817870368e-05 -0.015361278622972645 0.0005163638117973057" rpy="-0.40438613574675164 -1.560003033264187 1.9569843491253969"/>
         <geometry>
            <mesh filename="meshes/converted_r3_finger_middle_col_808080ff.obj"/>
         </geometry>
         <material name="collision">
            <color rgba="1 0.6 0.6 1"/>
         </material>
      </visual>
   </link>
   <link name="F2/J2_jointbody">
      <inertial>
         <origin xyz="0.0 0.0 0.0" rpy="0.0 0.0 0.0"/>
         <mass value="0.001"/>
         <inertia ixx="1e-09" iyy="1e-09" izz="1e-09" ixy="0" ixz="0" iyz="0"/>
      </inertial>
   </link>
   <joint type="revolute" name="F2/J2">
      <parent link="F2/finger_proximal"/>
      <child link="F2/J2_jointbody"/>
      <origin xyz="0.0 -0.05 0.0" rpy="0.0 0.0 0.0"/>
      <axis xyz="1.0 0.0 0.0"/>
      <limit lower="0.0" upper="1.3963" effort="100" velocity="100"/>
   </joint>
   <joint type="fixed" name="F2/J2_offset">
      <parent link="F2/J2_jointbody"/>
      <child link="F2/finger_middle"/>
      <origin xyz="-0.0 -0.0 -0.0" rpy="0.0 0.0 0.0"/>
   </joint>
   <link name="F2/finger_distal">
      <inertial>
         <origin xyz="-0.0012210484748830597 -0.003505067494228547 0.007269018357083593" rpy="0.39882863373999167 0.031957197161715634 0.13057366506604948"/>
         <mass value="0.02766365"/>
         <inertia ixx="4.205112783682214e-06" iyy="4.075291346818556e-06" izz="1.2620029574927629e-06" ixy="0" ixz="0" iyz="0"/>
      </inertial>
      <visual name="r3_finger_distal">
         <origin xyz="-0.0012210484748830597 -0.003505067494228547 0.007269018357083593" rpy="0.39882863373999167 0.031957197161715634 0.13057366506604948"/>
         <geometry>
            <mesh filename="meshes/converted_r3_finger_distal_808080ff.obj"/>
         </geometry>
         <material name="jet_black">
            <color rgba="0.0549 0.0549 0.06274 1"/>
         </material>
      </visual>
      <visual name="r3_finger_distal_sensor">
         <origin xyz="4.159368535496256e-07 -0.0006412162305678167 0.02304441091689664" rpy="0.0 -0.3214055919794552 1.5707963267948966"/>
         <geometry>
            <mesh filename="meshes/converted_r3_finger_distal_sensor_808080ff.obj"/>
         </geometry>
         <material name="graphite_black">
            <color rgba="0.1529 0.16078 0.16862 1"/>
         </material>
      </visual>
      <visual name="r3_finger_distal_col">
         <origin xyz="-0.0012210484748830597 -0.003505067494228547 0.007269018357083593" rpy="0.39882863373999167 0.031957197161715634 0.13057366506604948"/>
         <geometry>
            <mesh filename="meshes/converted_r3_finger_distal_col_808080ff.obj"/>
         </geometry>
         <material name="collision">
            <color rgba="1 0.6 0.6 1"/>
         </material>
      </visual>
      <visual name="r3_finger_distal_tip_col">
         <origin xyz="4.159368535496256e-07 -0.0006412162305678167 0.02304441091689664" rpy="0.0 -0.3214055919794552 1.5707963267948966"/>
         <geometry>
            <mesh filename="meshes/converted_r3_finger_distal_tip_col_808080ff.obj"/>
         </geometry>
         <material name="collision">
            <color rgba="1 0.6 0.6 1"/>
         </material>
      </visual>
   </link>
   <link name="F2/J3_jointbody">
      <inertial>
         <origin xyz="0.0 0.0 0.0" rpy="0.0 0.0 0.0"/>
         <mass value="0.001"/>
         <inertia ixx="1e-09" iyy="1e-09" izz="1e-09" ixy="0" ixz="0" iyz="0"/>
      </inertial>
   </link>
   <joint type="revolute" name="F2/J3">
      <parent link="F2/finger_middle"/>
      <child link="F2/J3_jointbody"/>
      <origin xyz="0.0 -0.035 0.0" rpy="-1.5707963267948963 0.0 -3.141592653589793"/>
      <axis xyz="-1.0 0.0 0.0"/>
      <limit lower="-0.5236" upper="1.4835" effort="100" velocity="100"/>
   </joint>
   <joint type="fixed" name="F2/J3_offset">
      <parent link="F2/J3_jointbody"/>
      <child link="F2/finger_distal"/>
      <origin xyz="-0.0 -0.0 -0.0" rpy="0.0 0.0 0.0"/>
   </joint>
</robot>
